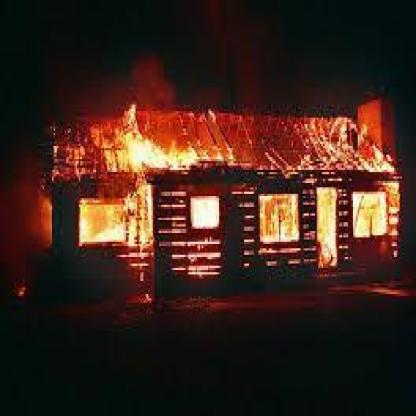fire: (41, 105, 400, 281), (140, 288, 153, 304)
